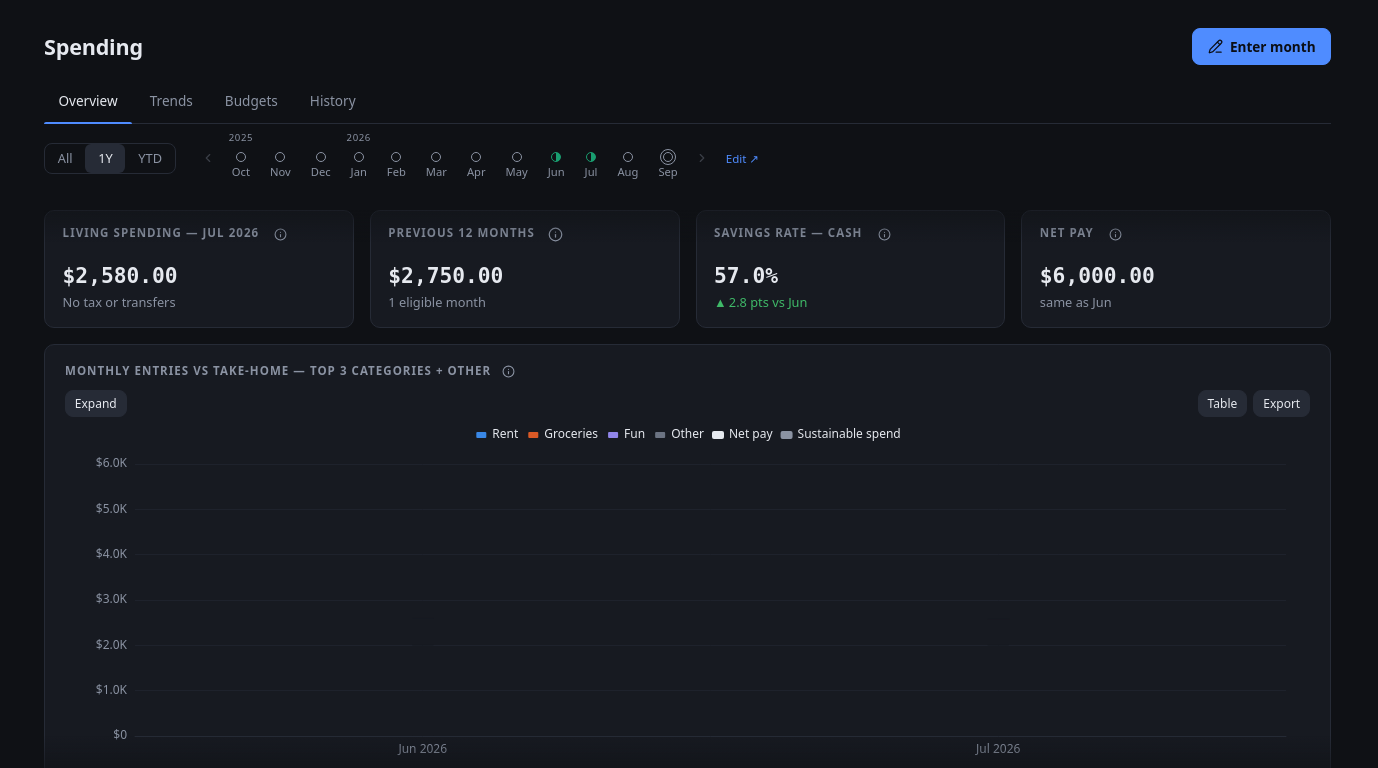
Test: SpendingPage — the grammar mounts (charts C3) › mounts each task view on demand with chart labels and export rows
Expected: the heading "Monthly entries vs take-home — top 3 categories + other" is shown, [65,363,521,378]
Expected: the picture named "Stacked bar chart of all monthly category entries" is shown, [65,424,1310,764]
Click the tab "Trends": (171, 102) [135,81,207,123]
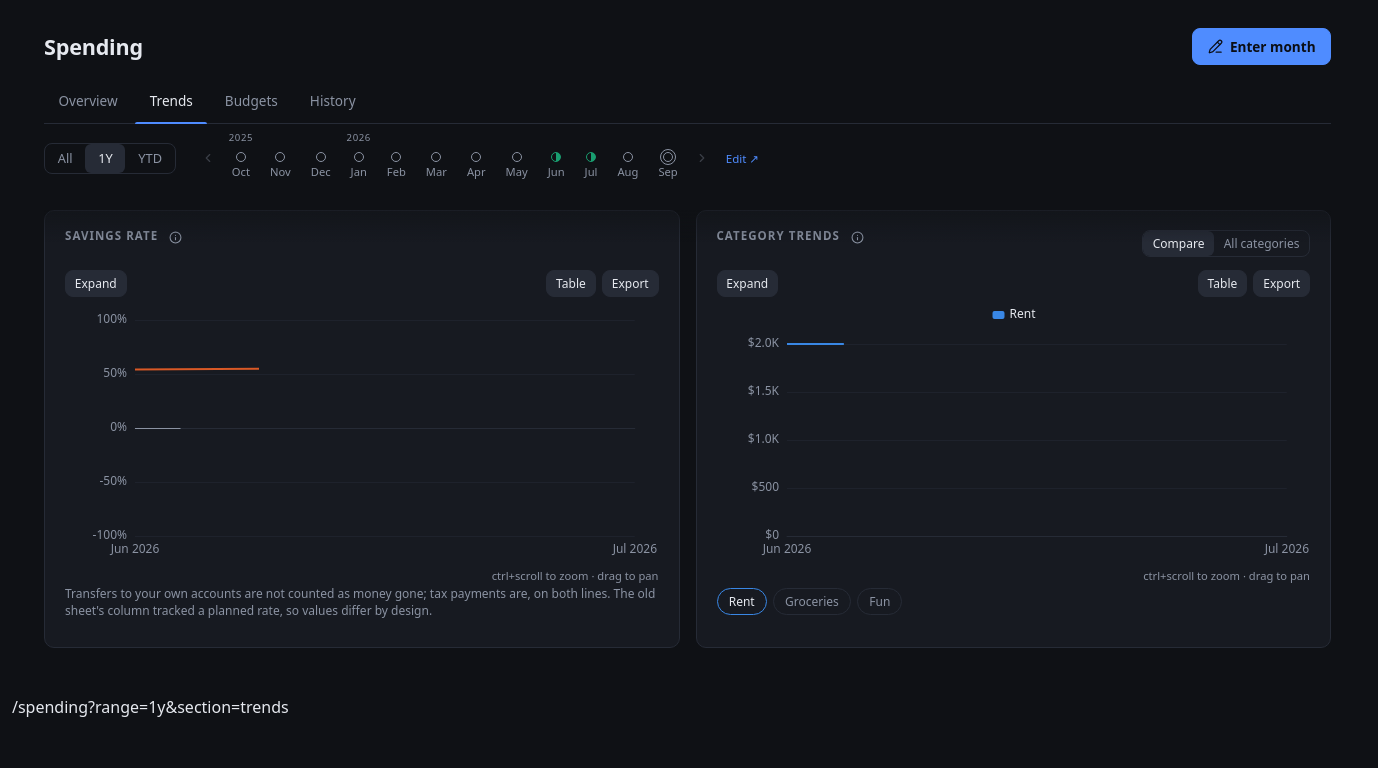
Expected: the number of elements "Table Export" is 2, [546,270,658,297]; [1198,270,1310,297]
Result: the picture named "Line chart of the selected categories" is shown at [716,304,1310,564]
Click the tab "History": (333, 102) [295,81,370,123]
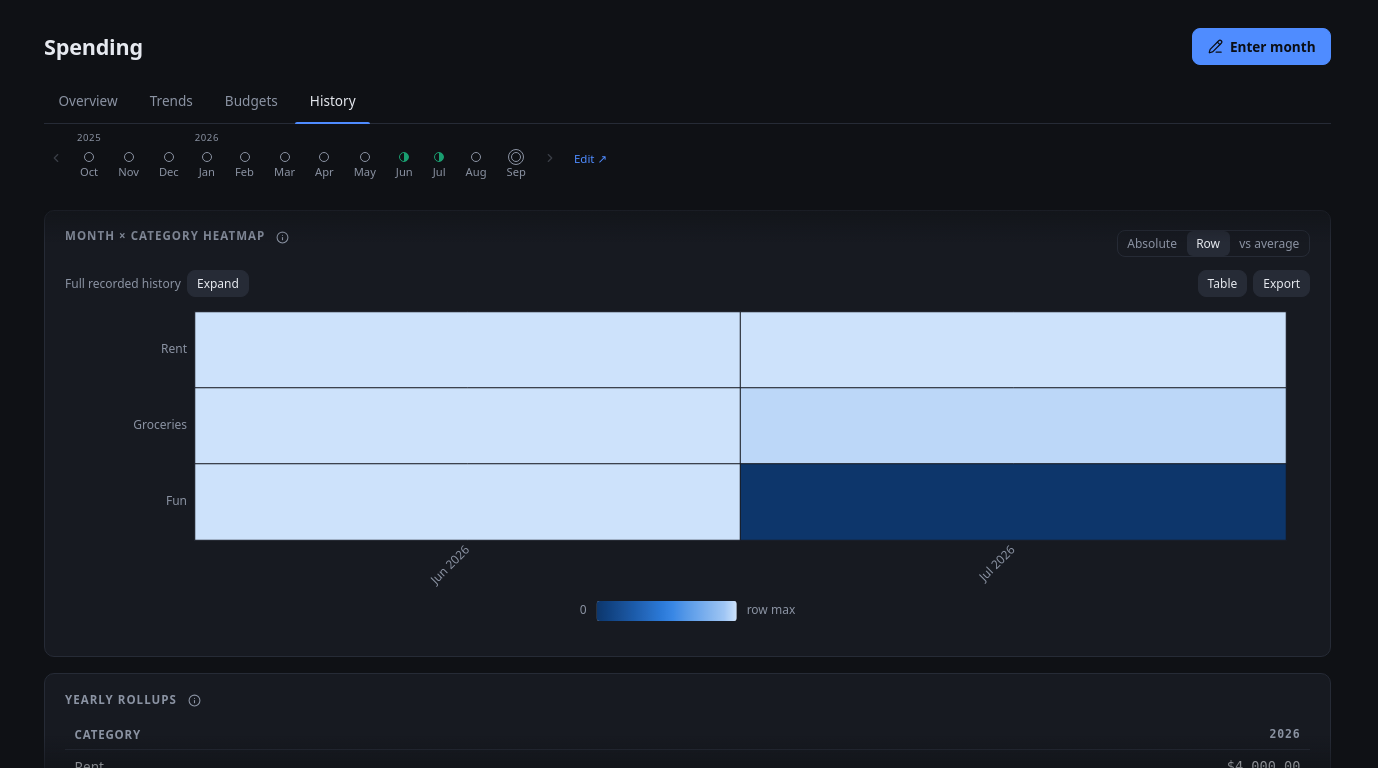
Result: the number of elements "Table Export" is 1 at [1198,270,1310,297]
Result: the picture named "Heatmap of spend per category per month" is shown at [65,304,1310,636]
Click the tab "Budgets": (251, 102) [210,81,292,123]
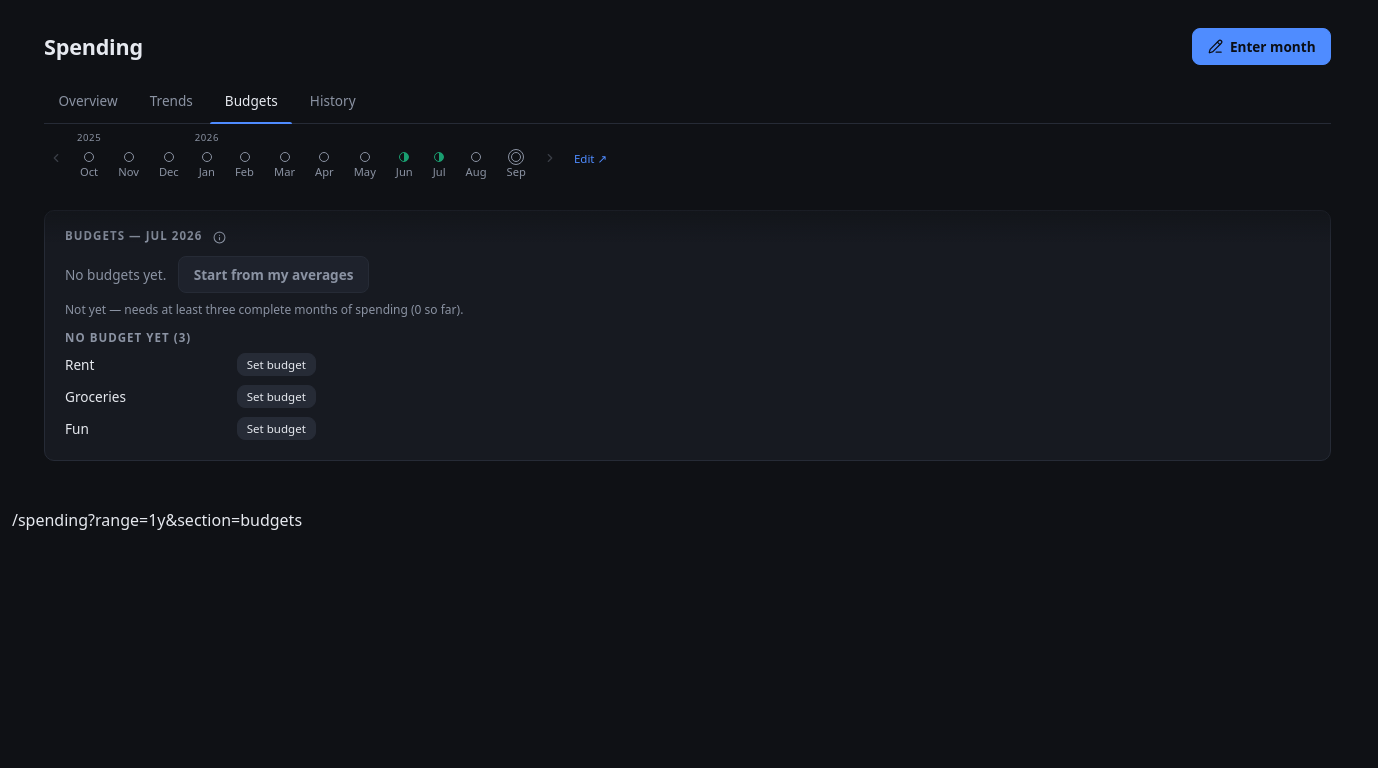
Result: the tab "Budgets" is selected at [210,81,292,123]
Click the tab "Overview": (88, 102) [44,81,132,123]
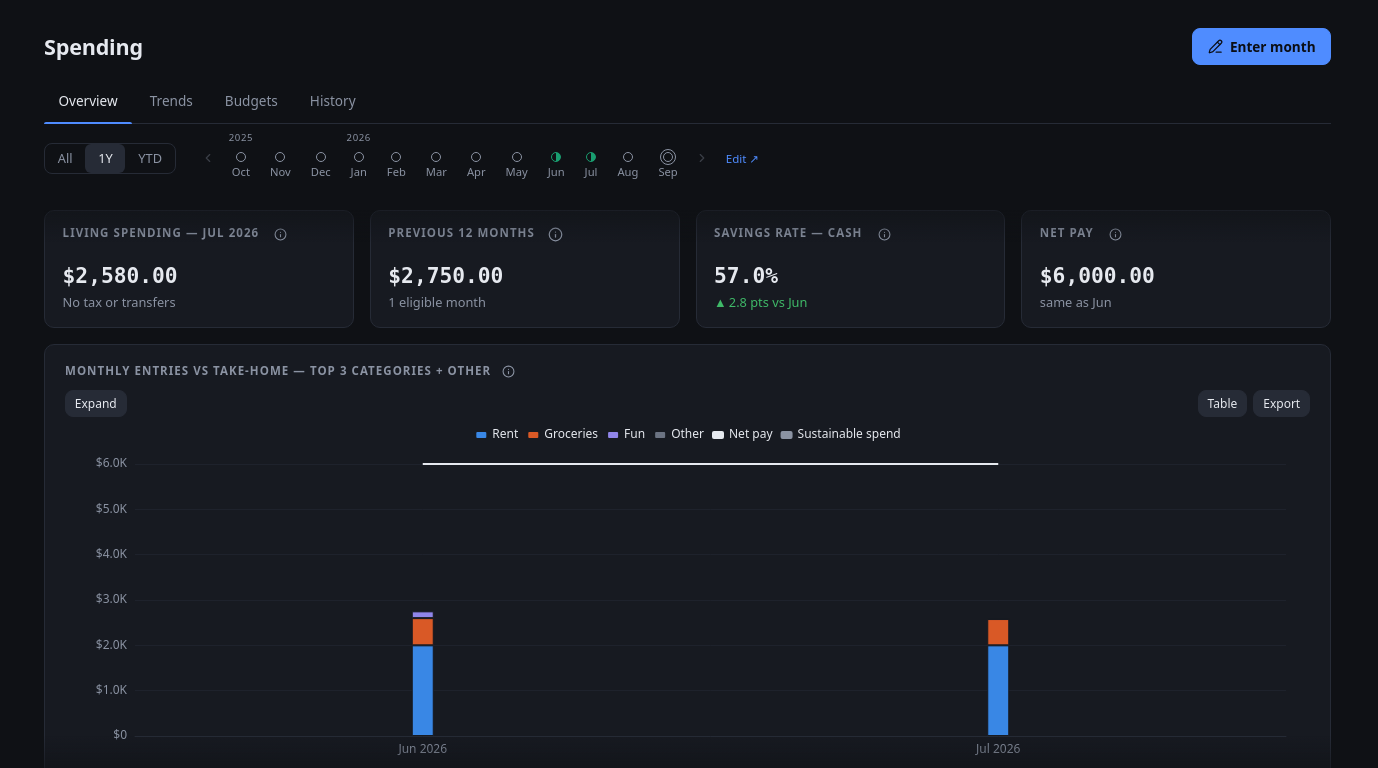
Result: the number of elements "Table Export" is 2
